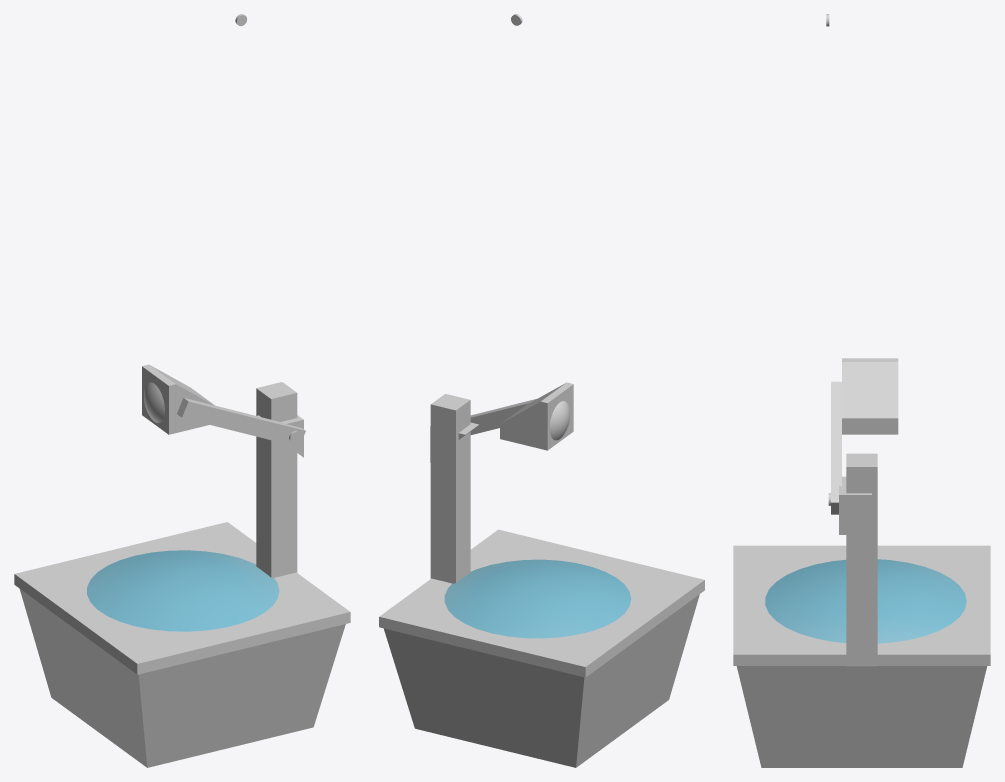
File: OverheadProjector.FBX
3 renders of one model, left to right at view 1: azimuth 30°, elevation 25°; view 2: azimuth 150°, elevation 25°; view 3: azimuth 270°, elevation 25°, orthographic. The views are drawn at different scales.
Parts seen in each view (by area): view 1: Box001, Box002, Sphere002, Box003, Box005, Box006, Sphere003; view 2: Box001, Box002, Sphere002, Box003, Box006, Box005, Sphere003; view 3: Box001, Box002, Sphere002, Box003, Box006, Box004, Box005.
Part boxes in pixels (x1,y1,x2,y2): Box001: (19,589,345,767); Box002: (14,522,350,674); Sphere002: (87,550,279,631); Box003: (256,382,297,577); Box005: (177,397,305,446); Box006: (142,364,214,434); Sphere003: (144,382,164,422); Box001: (383,594,699,767); Box002: (379,529,704,677); Sphere002: (444,559,631,638); Box003: (430,394,470,583); Box006: (500,382,573,450); Box005: (470,399,536,434); Sphere003: (549,401,569,440); Box001: (736,666,987,767); Box002: (733,545,990,665); Sphere002: (765,559,966,643); Box003: (846,453,877,666); Box006: (842,358,898,434); Box004: (839,476,871,534); Box005: (831,381,841,514).
Size of the model in its own units: 15.67 by 48.28 by 15.39.
